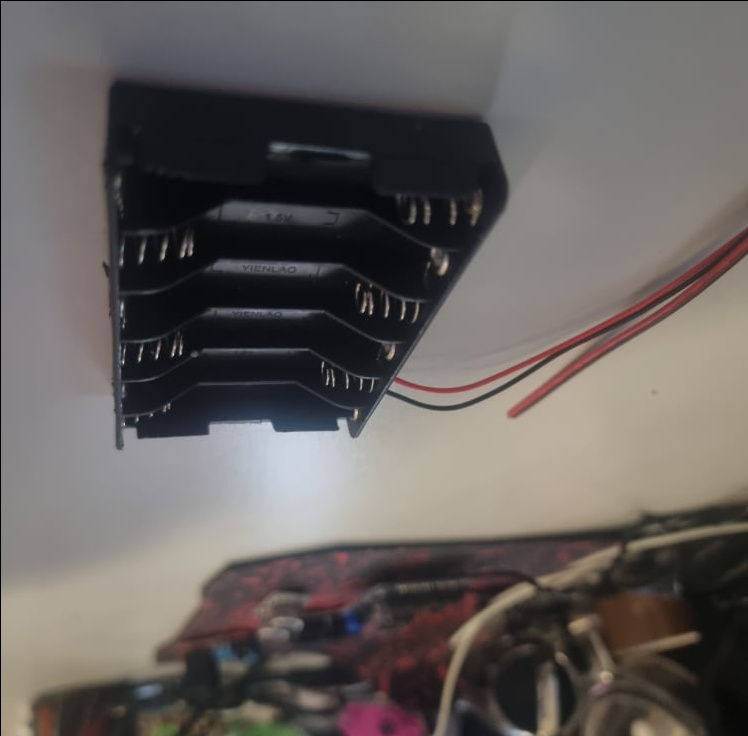BATTERY BOX: (104, 79, 508, 447)
